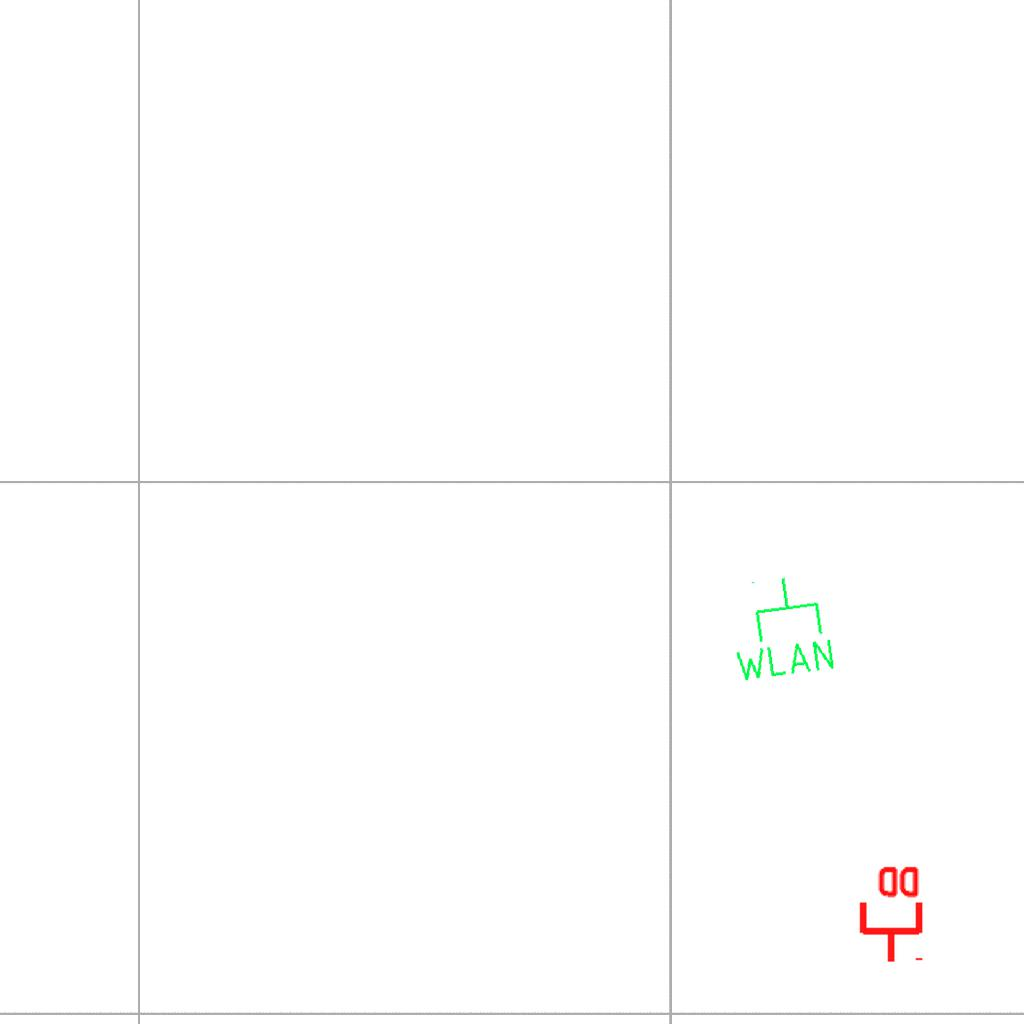Datenanschluss_zweifach: (855, 862, 924, 965)
WLAN: (720, 568, 840, 687)
